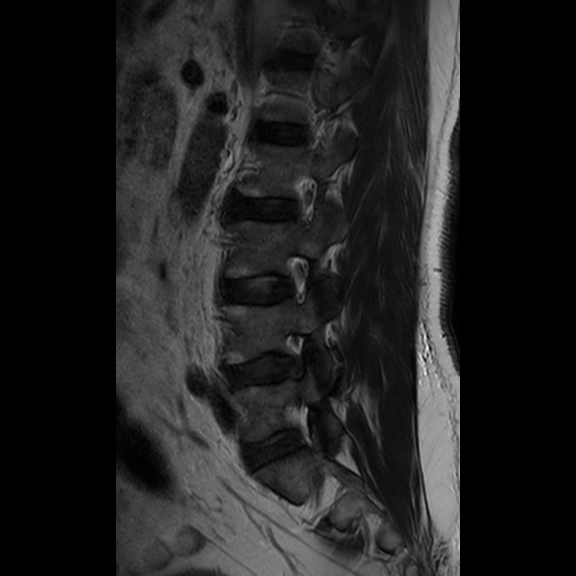LFS0: (277, 245, 320, 314)
